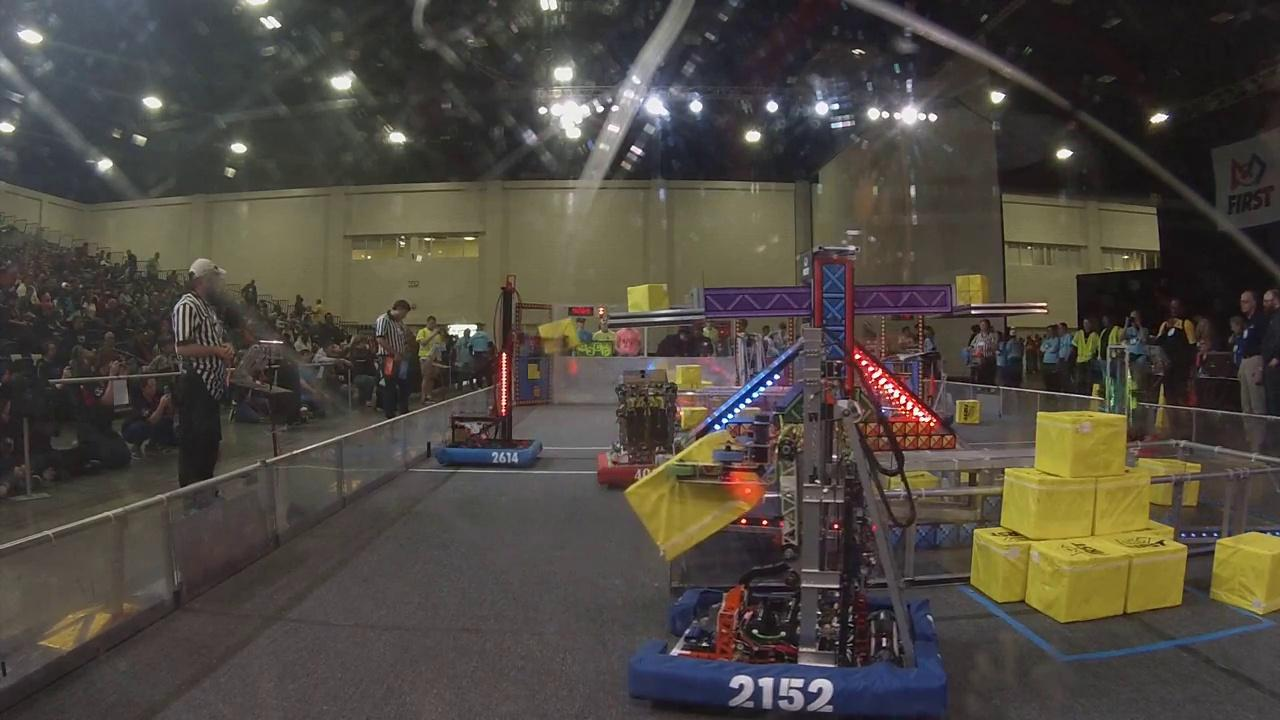robot: (610, 322, 950, 720), (435, 281, 548, 472), (596, 380, 689, 489)
